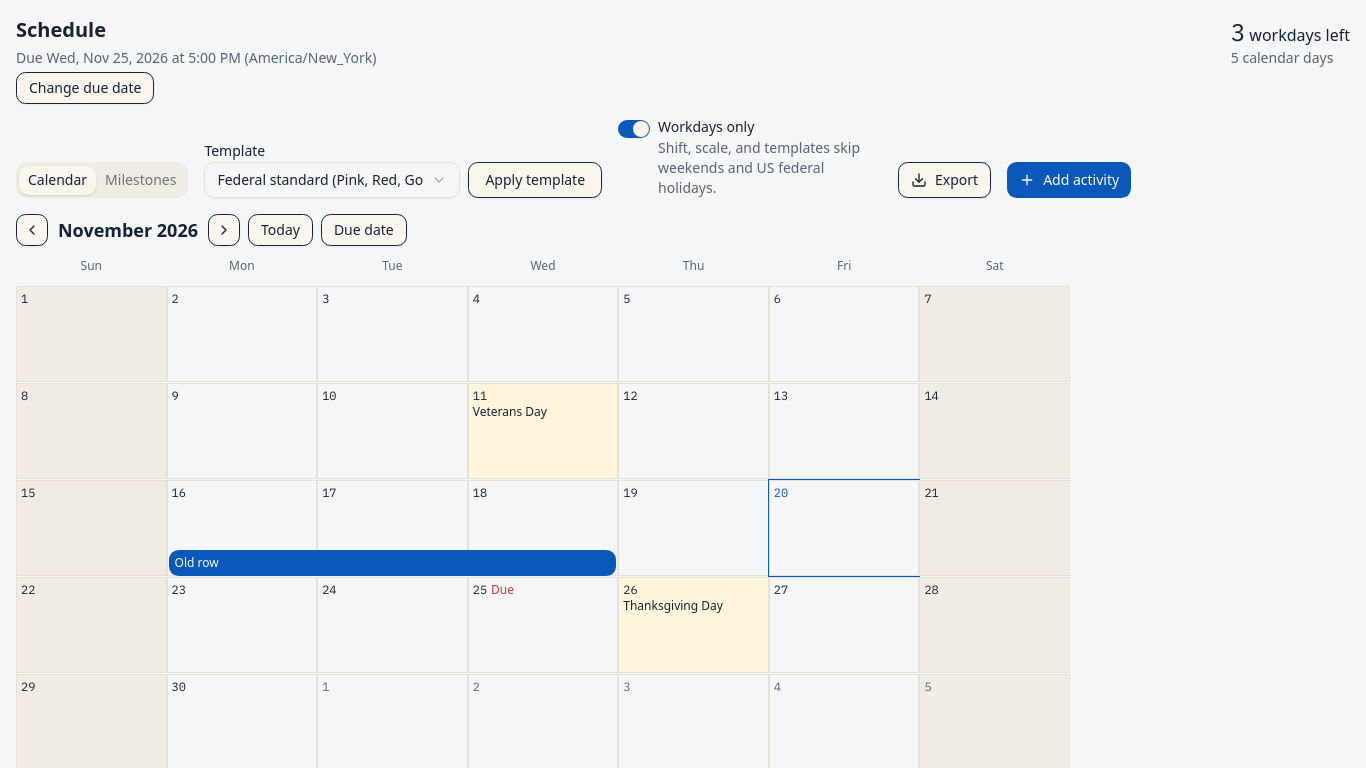
Test: ScheduleContainer: actions › counts a replace from the stored origin: a row with none is kept by the server
Click the button "Apply template": click(535, 180) [468, 162, 602, 198]
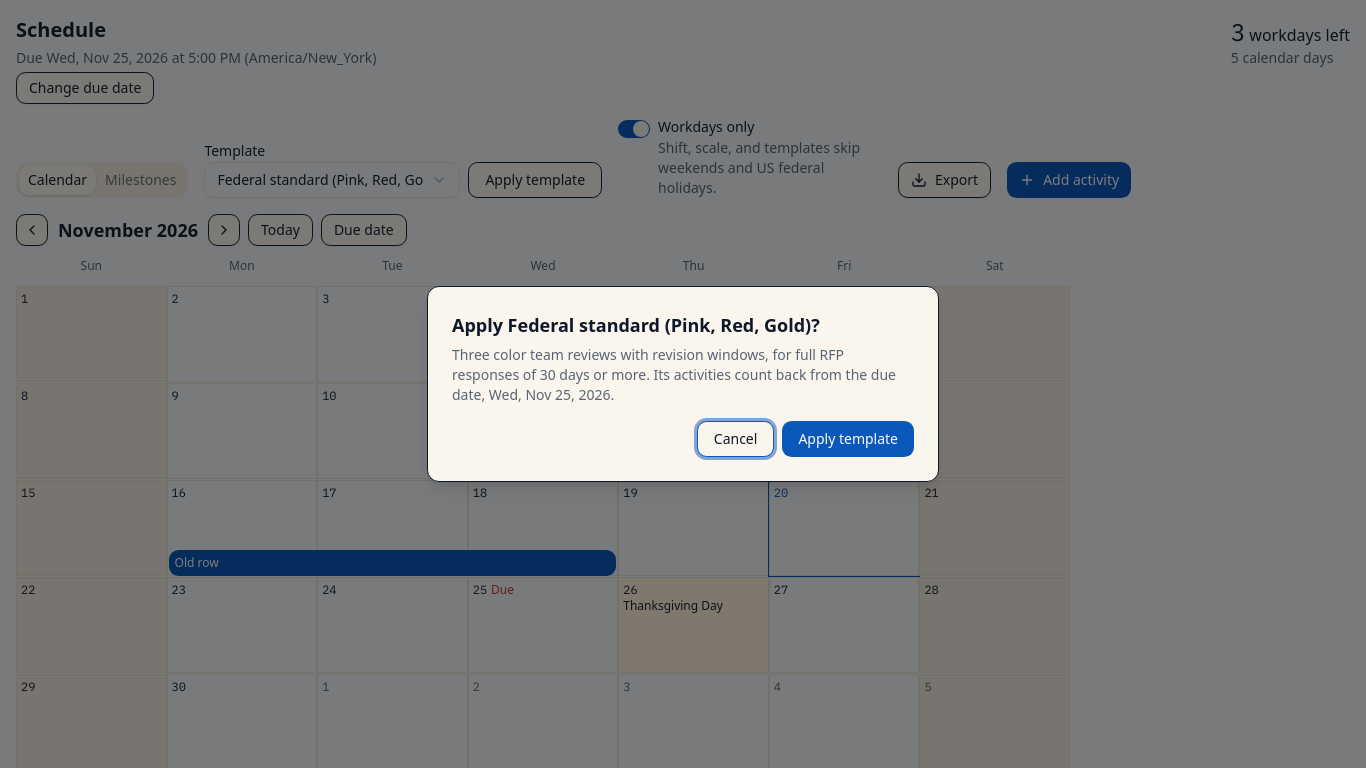
Expected: the button "Apply template" is shown, [782, 421, 914, 457]
